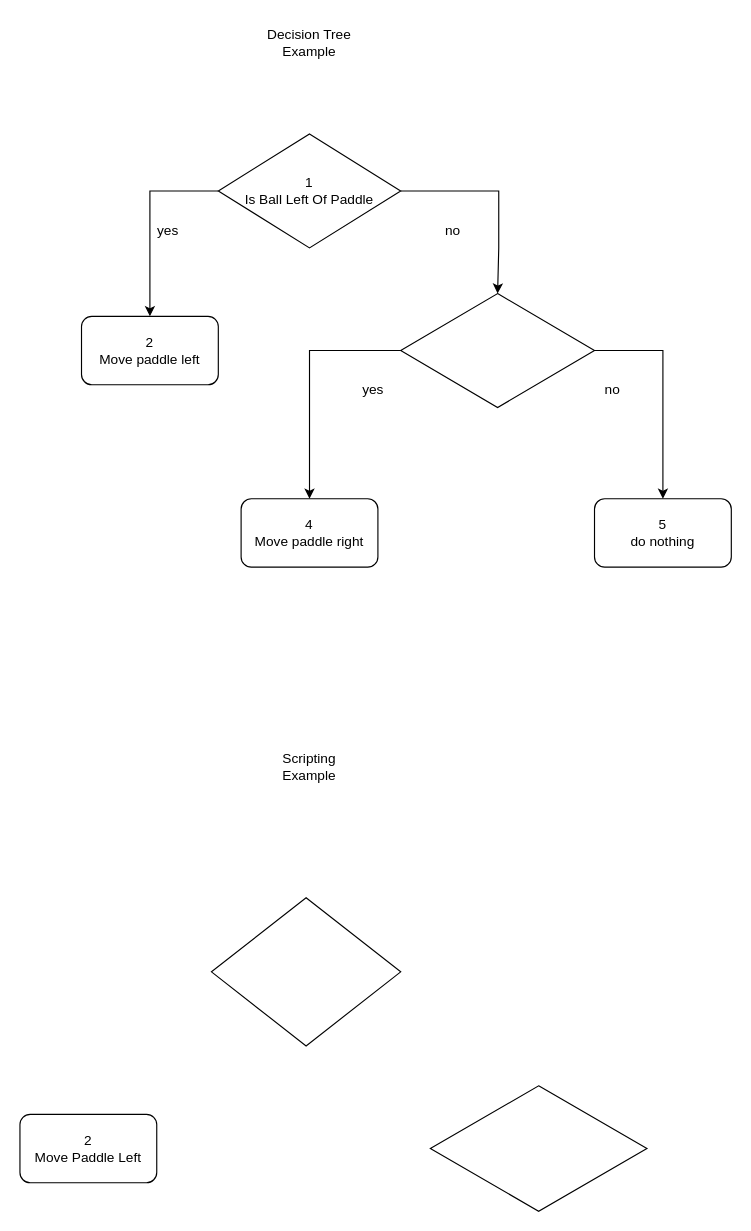
Some shapes in this 751 by 1231 pixel diagram are drawn without their labels. The centre of each missing label's shape, as x and y in pixels:
1 ball.position.x < paddle.position.x: the point at 305,971
3 ball.position.x > paddle.position.x: the point at 538,1148
3 Is Ball Right of Paddle: the point at 497,350
